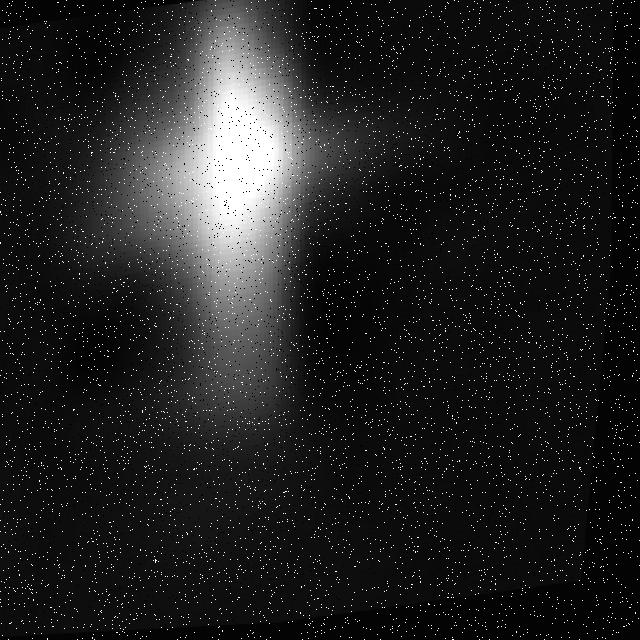person: (61, 1, 389, 469)
